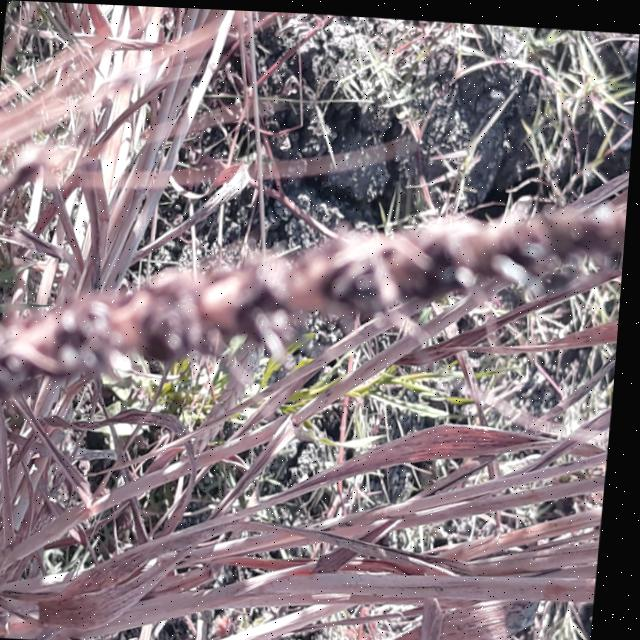loose_charred: (0, 130, 632, 454)
